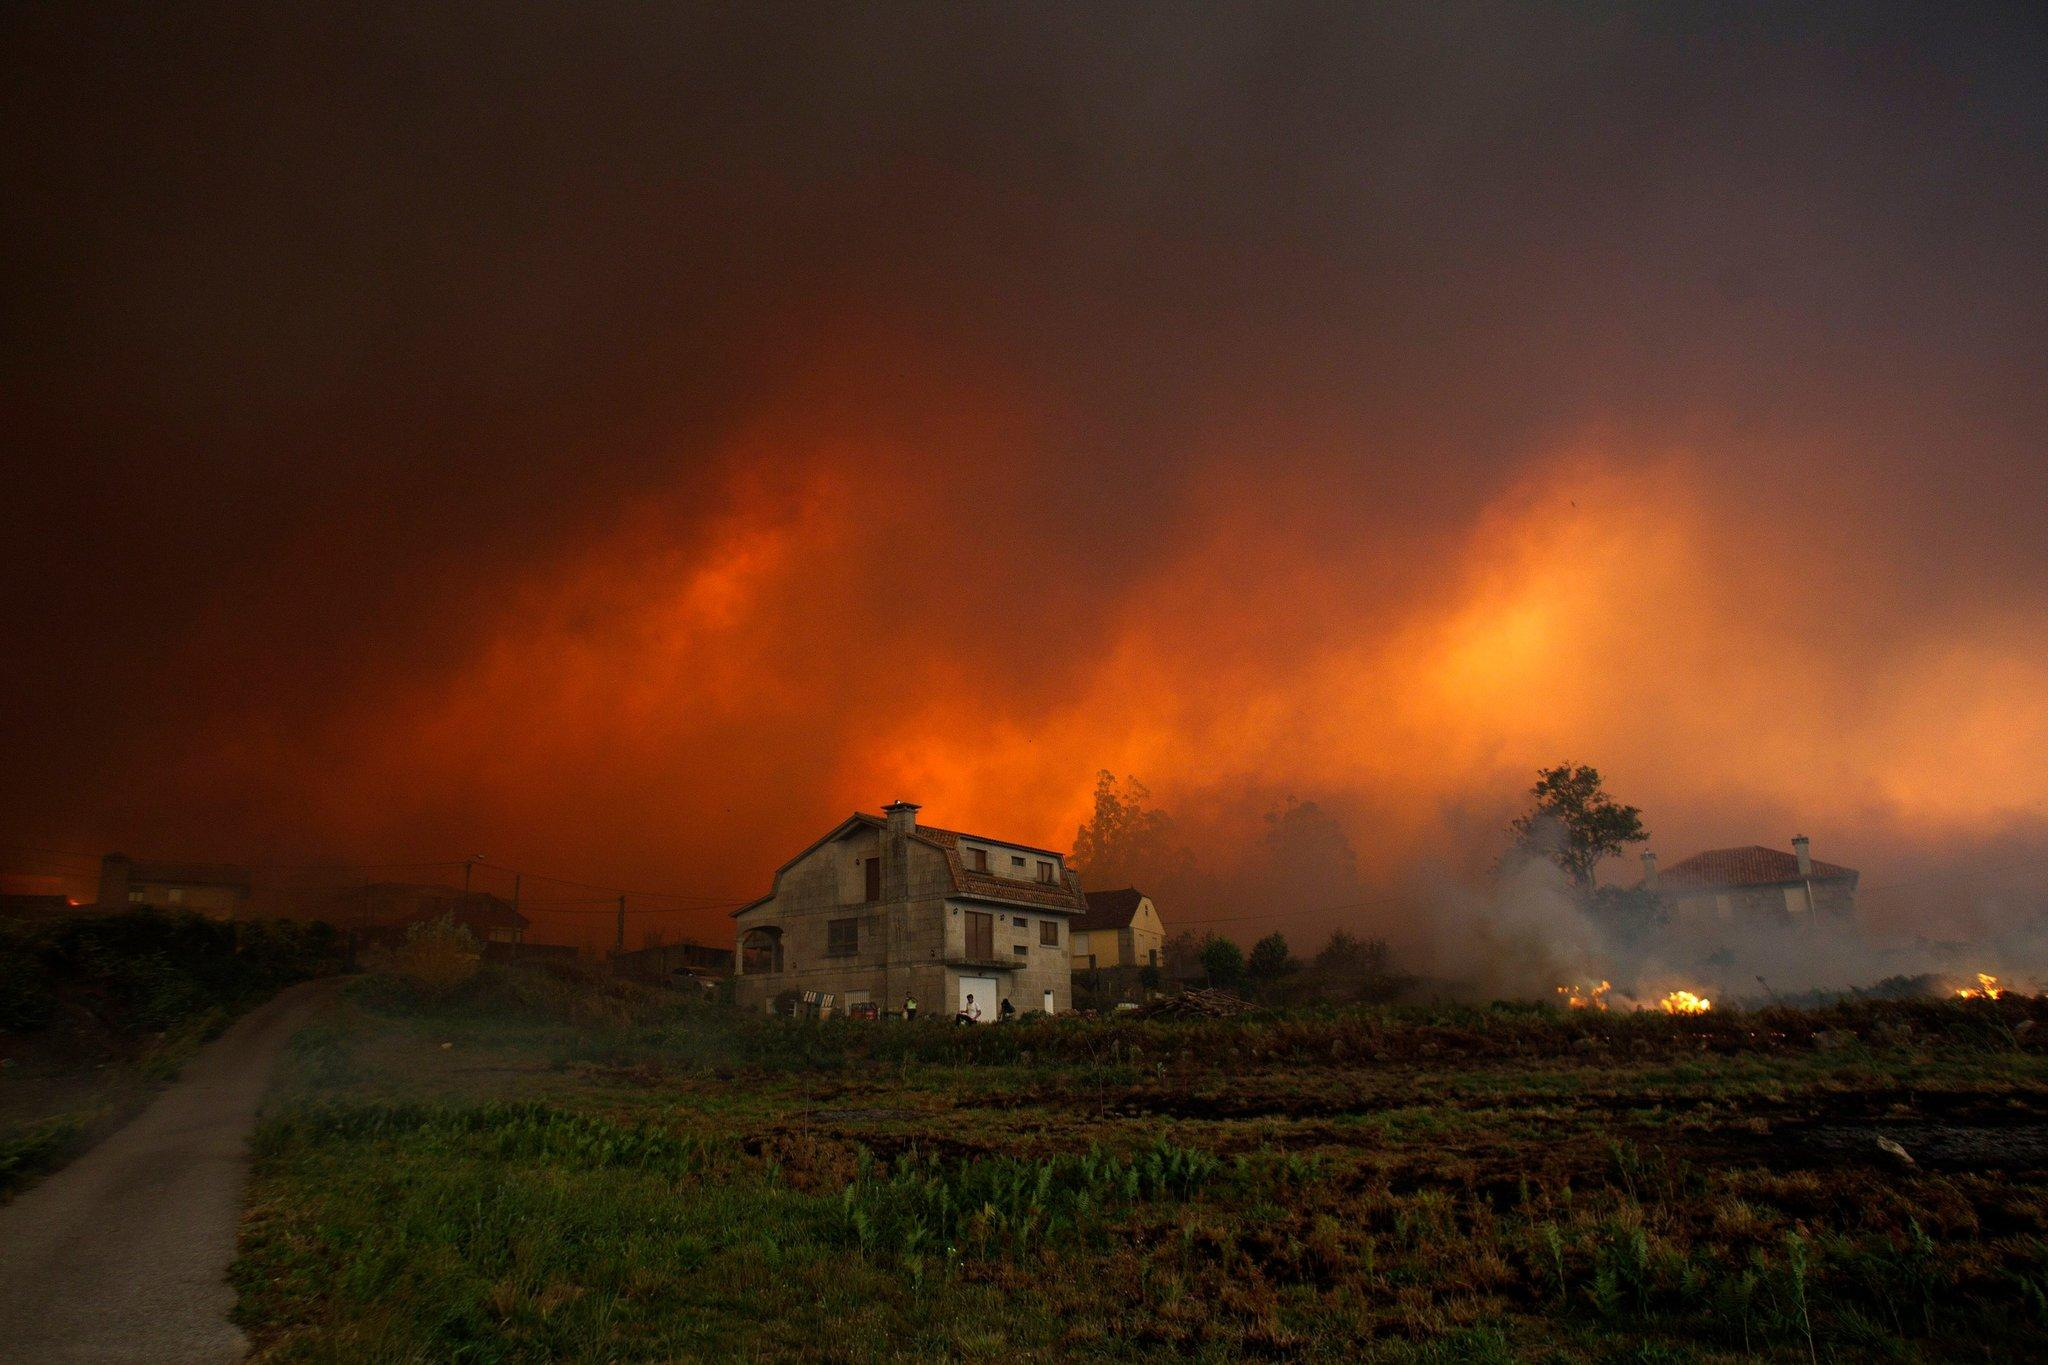fire: (1523, 928, 2048, 1059)
